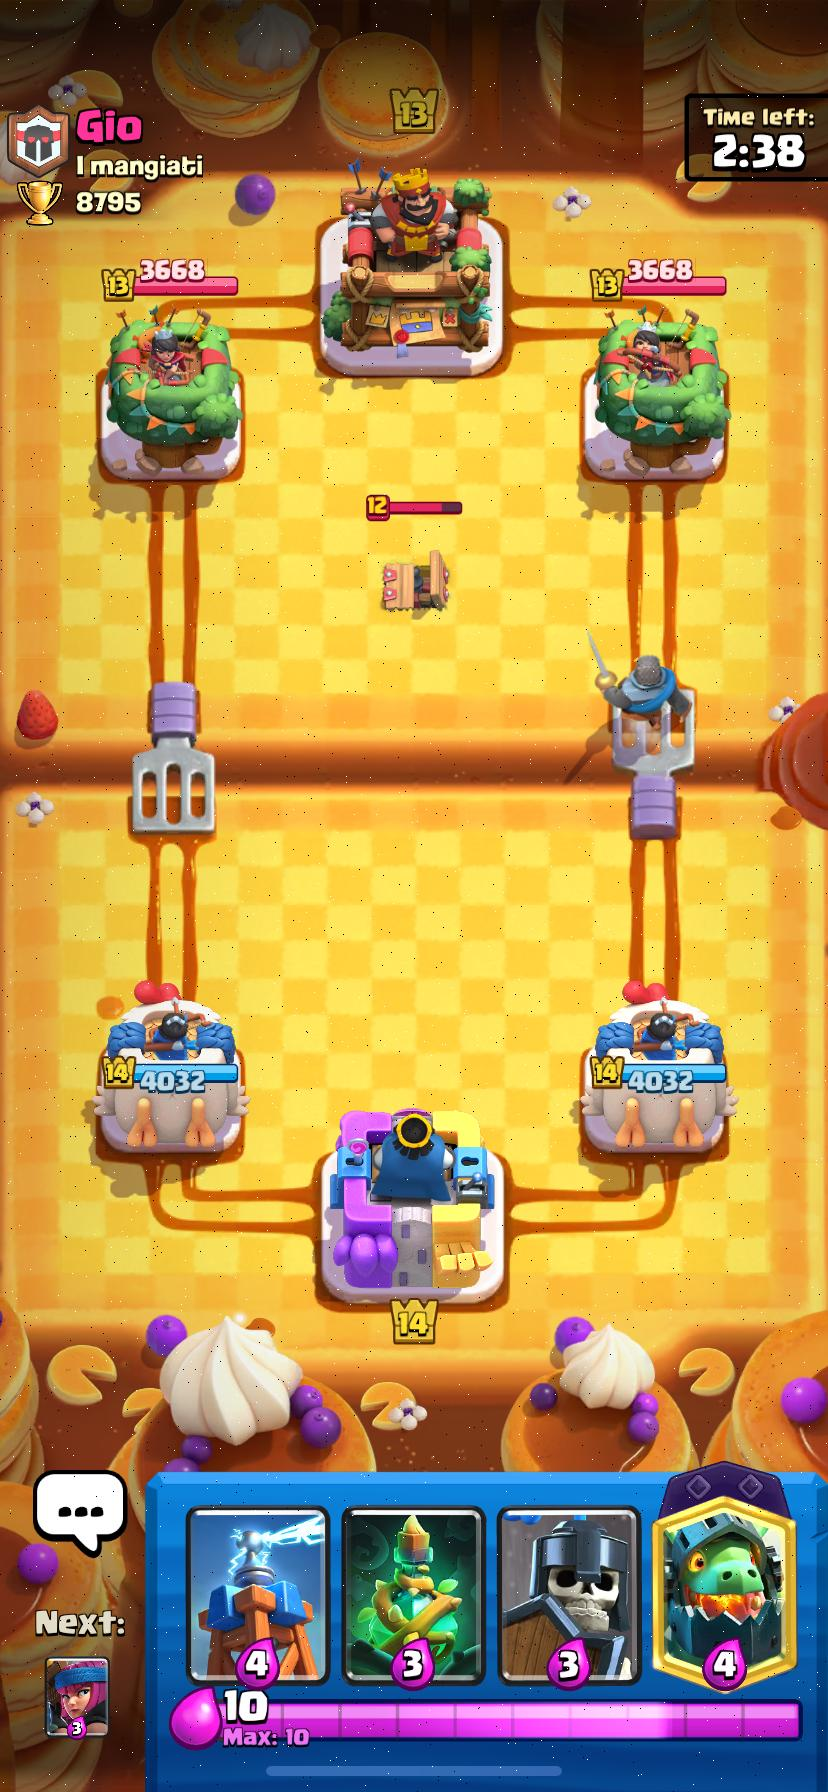EKingTower: (321, 169, 502, 374)
ETesla: (382, 550, 449, 613)
EnemyPrincessTower: (105, 309, 242, 477), (594, 309, 729, 478)
OKnight: (590, 637, 692, 733)
OwnKingTower: (321, 1109, 503, 1303)
OwnPrincessTower: (580, 982, 737, 1154), (93, 983, 248, 1152)
